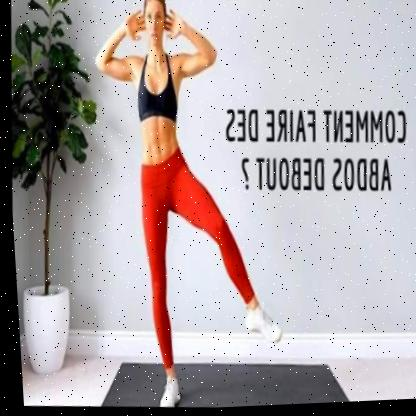person: (92, 0, 246, 412)
